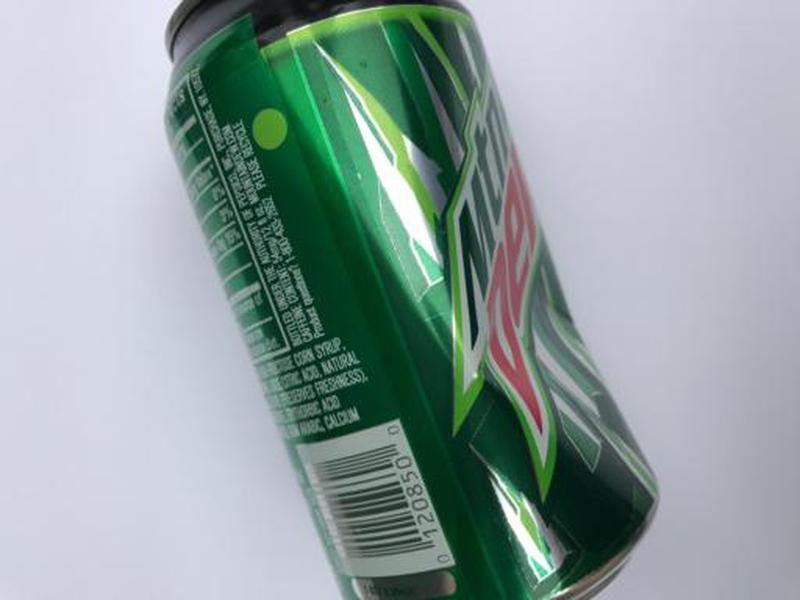can: (155, 1, 670, 600)
